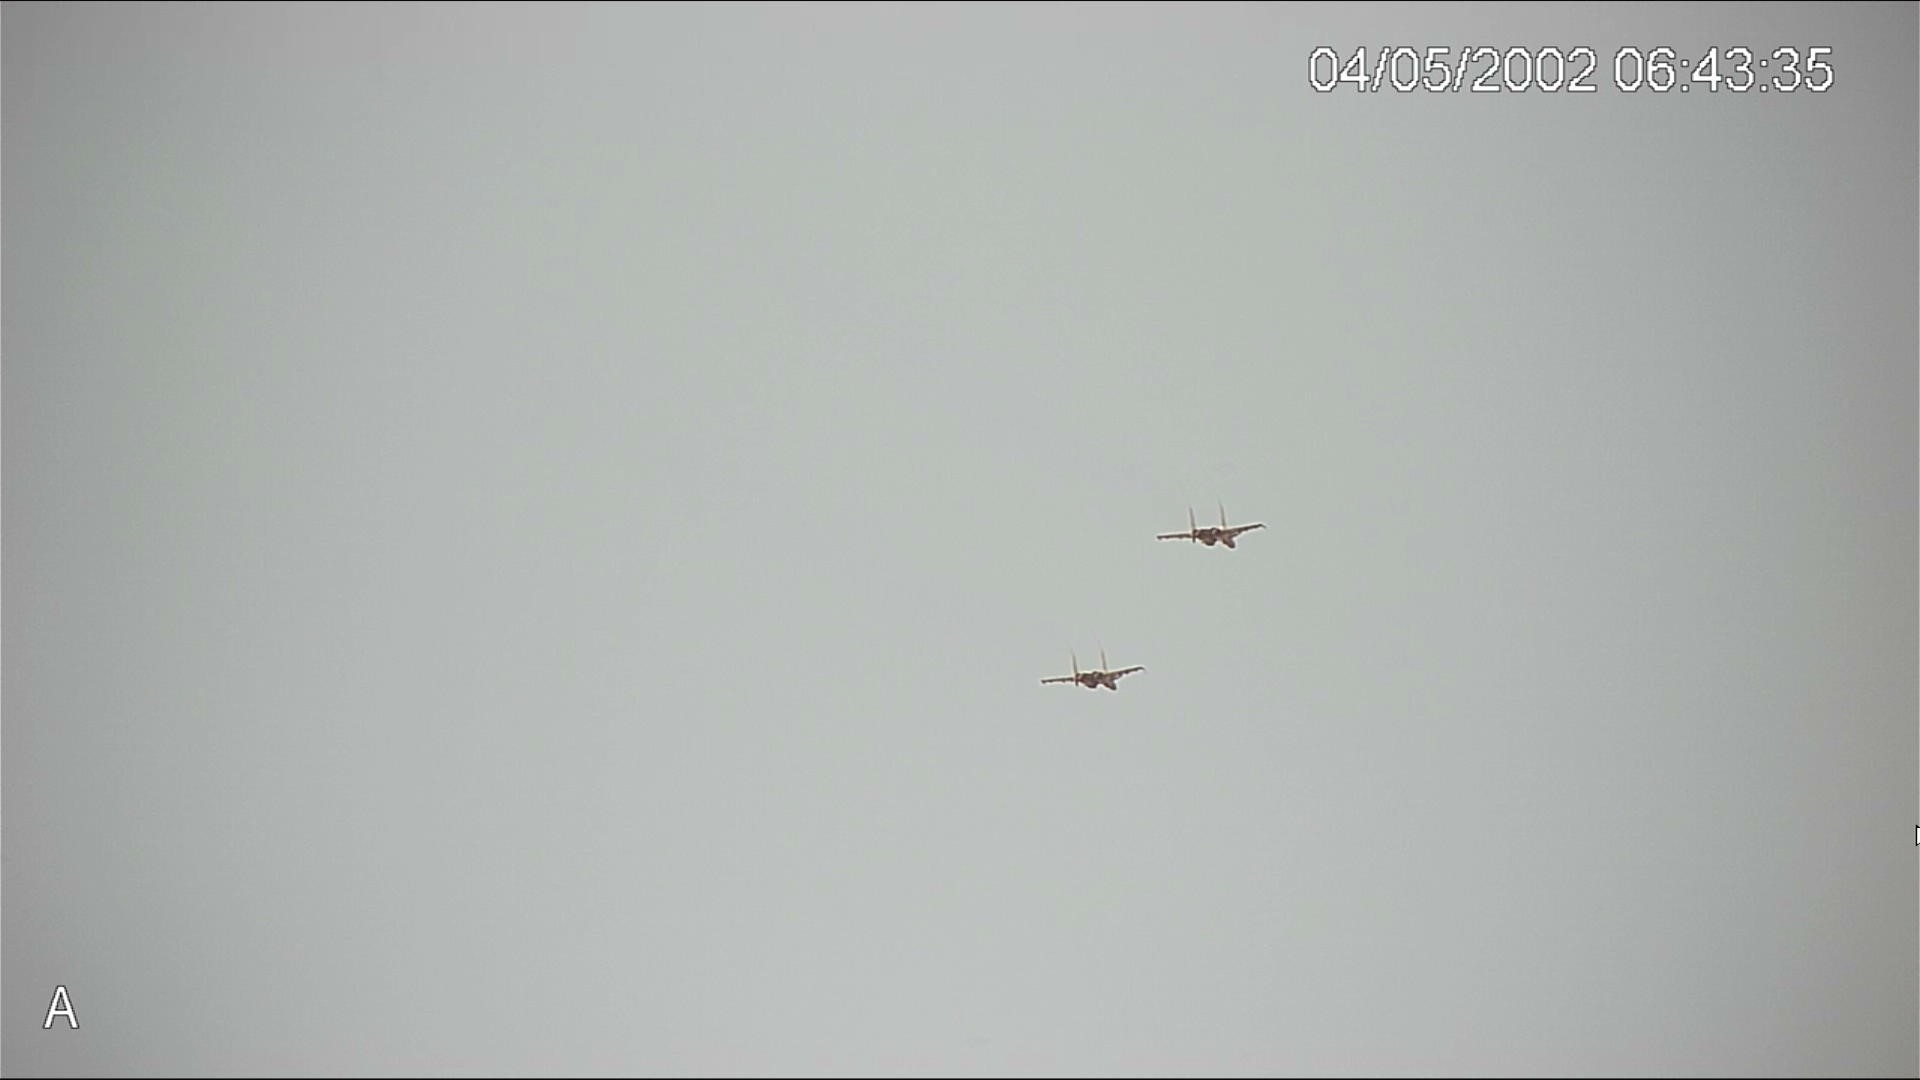SU_30: (1155, 512, 1269, 550), (1042, 650, 1146, 688)
